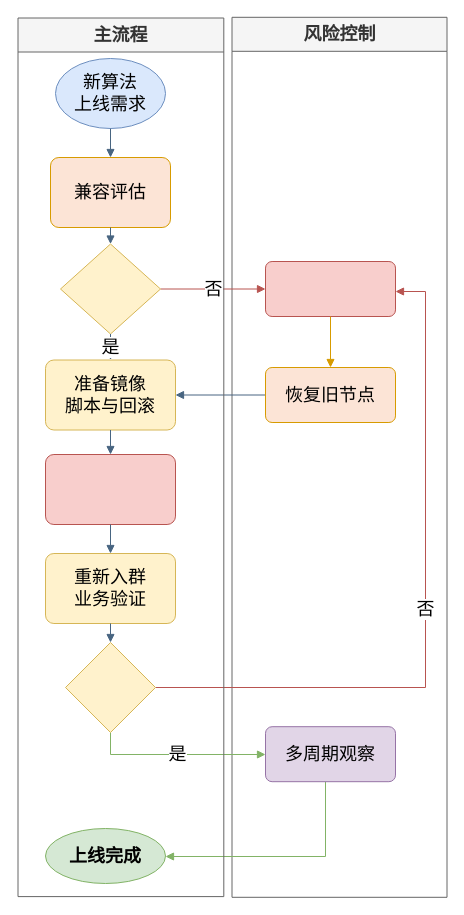
This 464x915 diagram has some shape labels left out. The shapes that lost their labels are listed below. From the top down, each one's centre as x and y in pixels, then its label:
pixel 110 288: 兼容 通过?
pixel 330 288: 失败回滚
pixel 110 489: 逐节点停机 重装系统
pixel 110 687: 旧任务 稳定?
